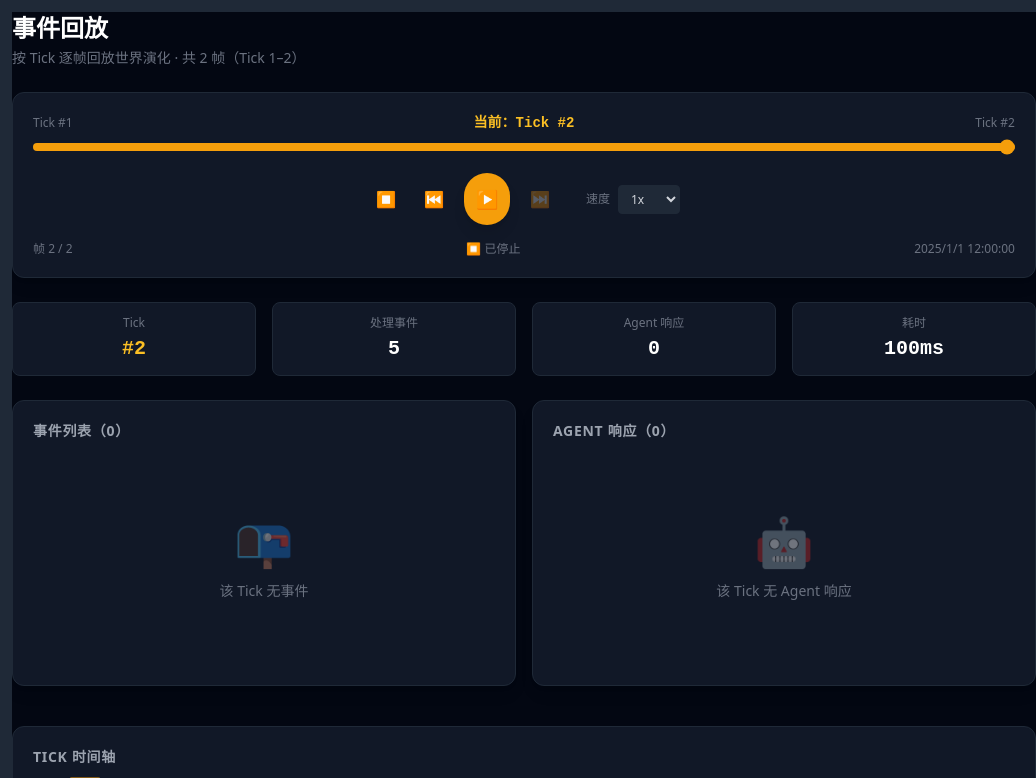
Scenario: TimelineReplay › 点击前进应切换到下一帧
The width and height of the screenshot is (1036, 778).
What coordinates should you click on to do the following:
click the button with test id "btn-stop"
I would click on:
 (386, 199)
Its box is [368,179,404,219].
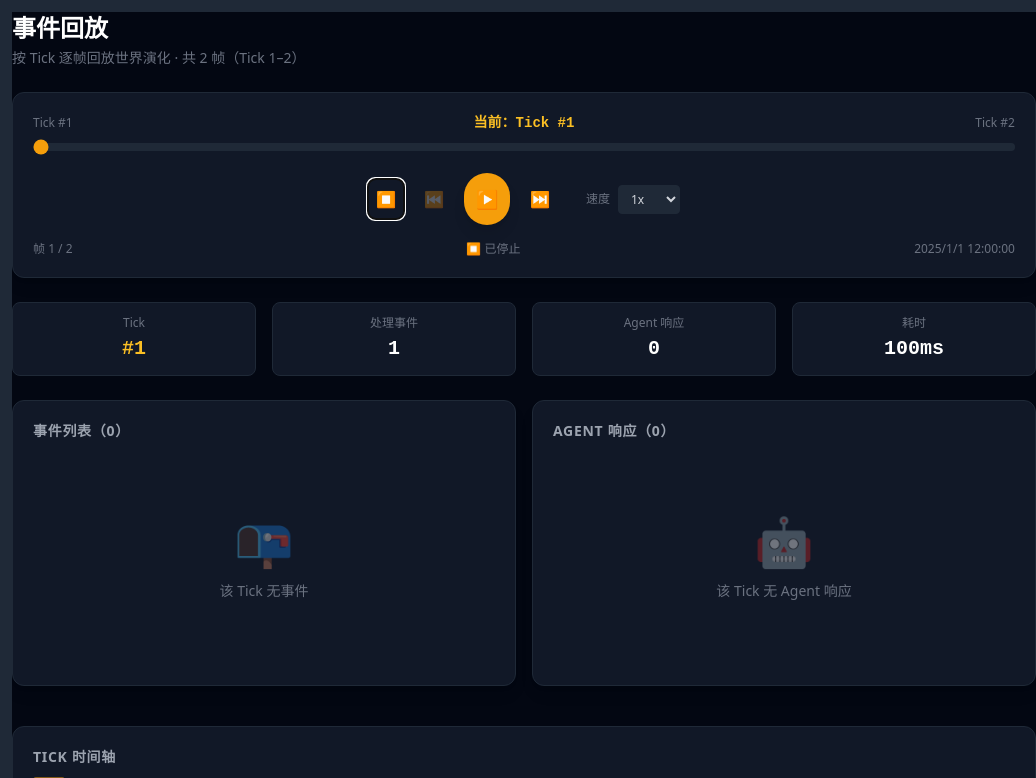
What coordinates should you click on to do the following:
click the button with test id "btn-step-forward"
I would click on:
 (540, 199)
Its box is [522,179,558,219].
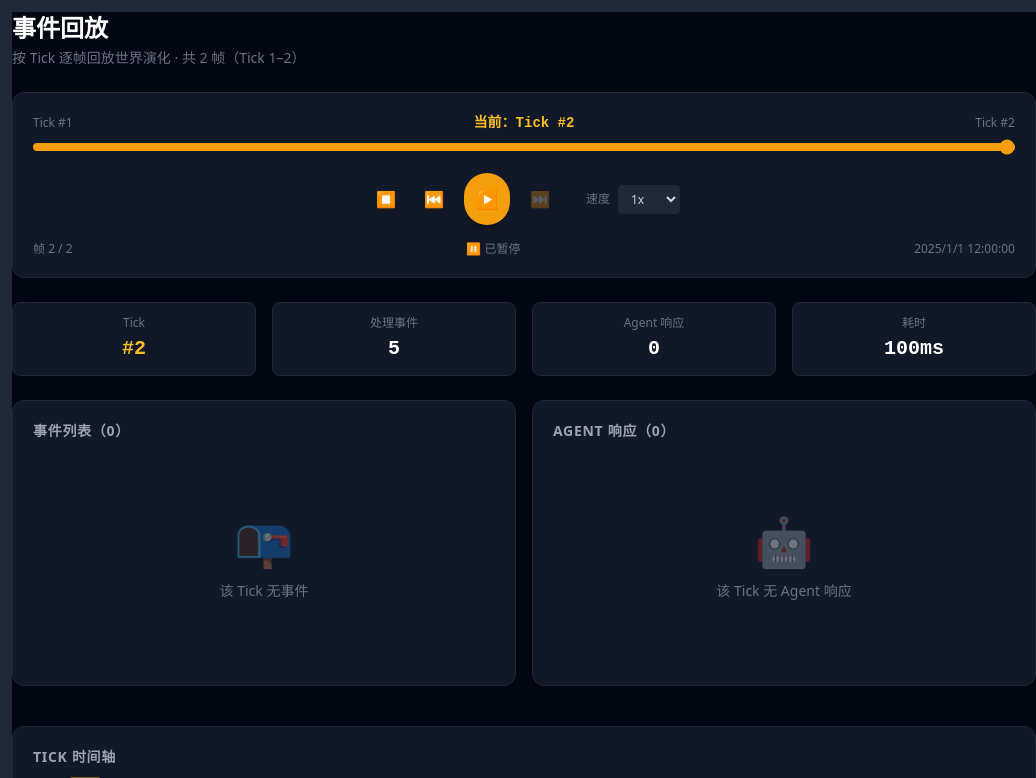
Expected: the text "当前：Tick #2" is shown, [474,113,574,133]
